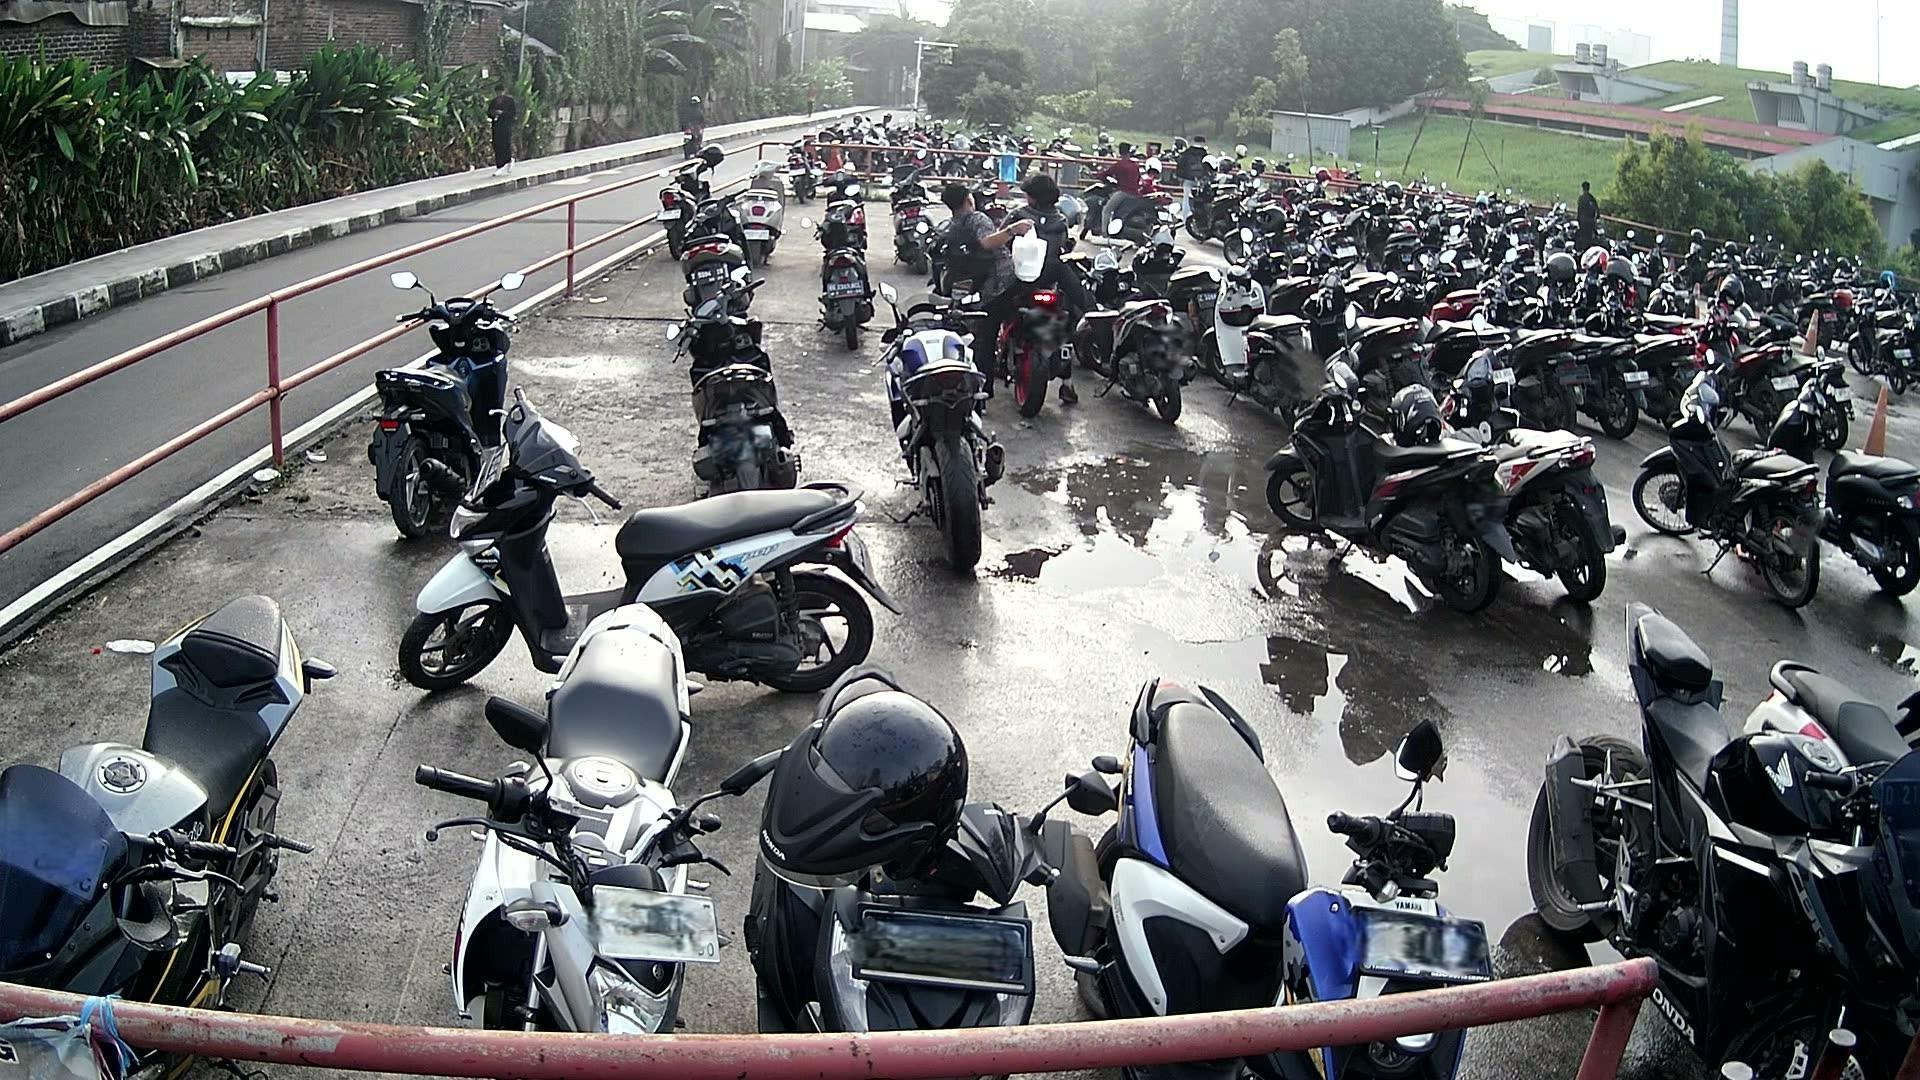motorcycle: (1526, 607, 1920, 1080), (1044, 674, 1502, 1080), (0, 592, 342, 1080), (397, 389, 906, 696), (418, 604, 746, 1080), (754, 662, 1068, 1080), (1270, 359, 1522, 612), (1636, 367, 1828, 605), (1448, 355, 1627, 605), (869, 278, 1017, 571), (1775, 367, 1920, 593), (375, 266, 479, 533), (669, 287, 802, 484), (1742, 659, 1920, 783)
